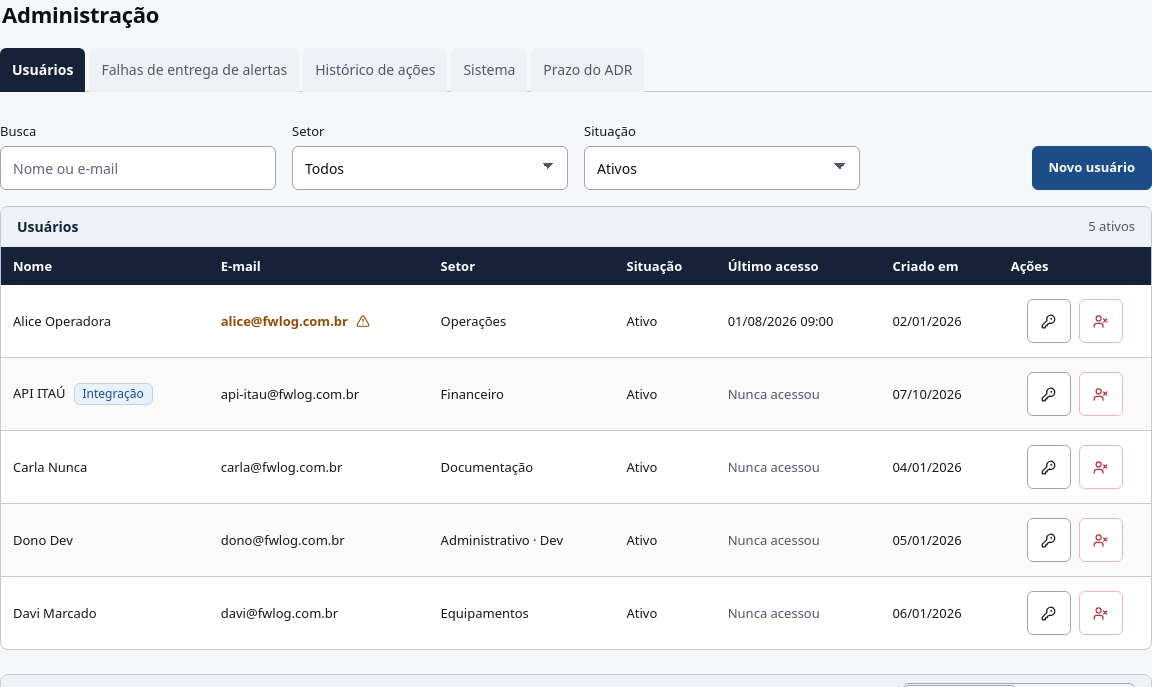
Test: exige o setor para criar um usuário
The width and height of the screenshot is (1152, 687).
Click the button "Novo usuário". click: (1092, 168)
box: [1032, 146, 1151, 190]
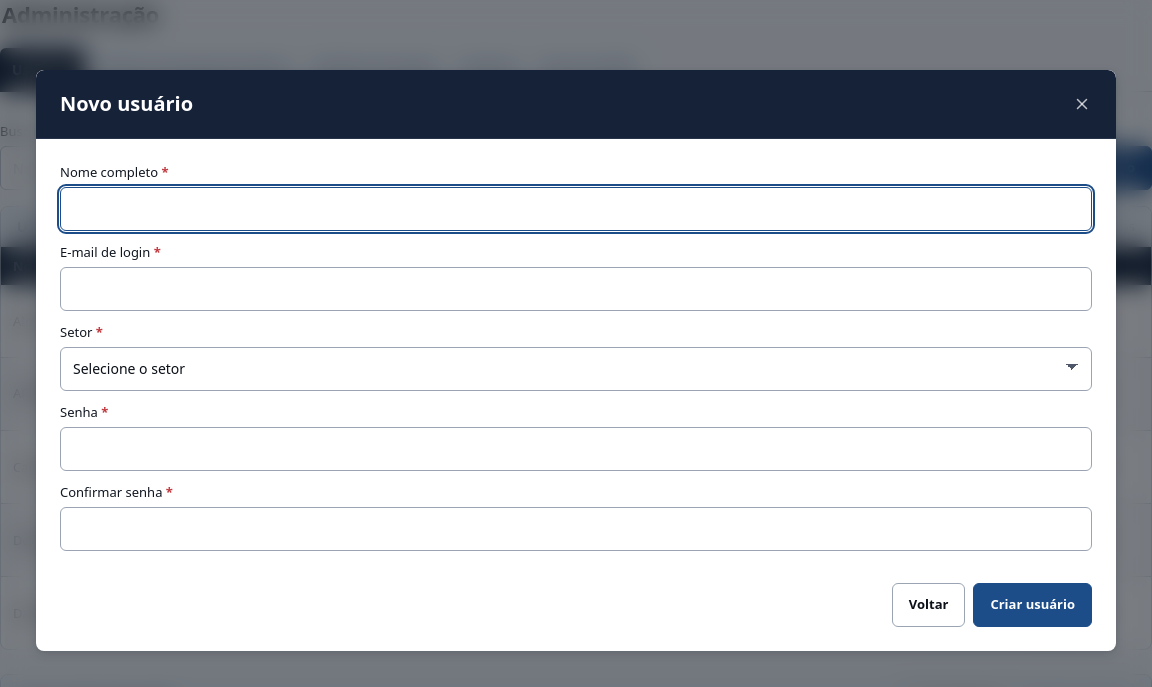
Type "Carla Nova" into the field labelled "Nome completo *". click: (576, 208)
box: [60, 186, 1092, 230]
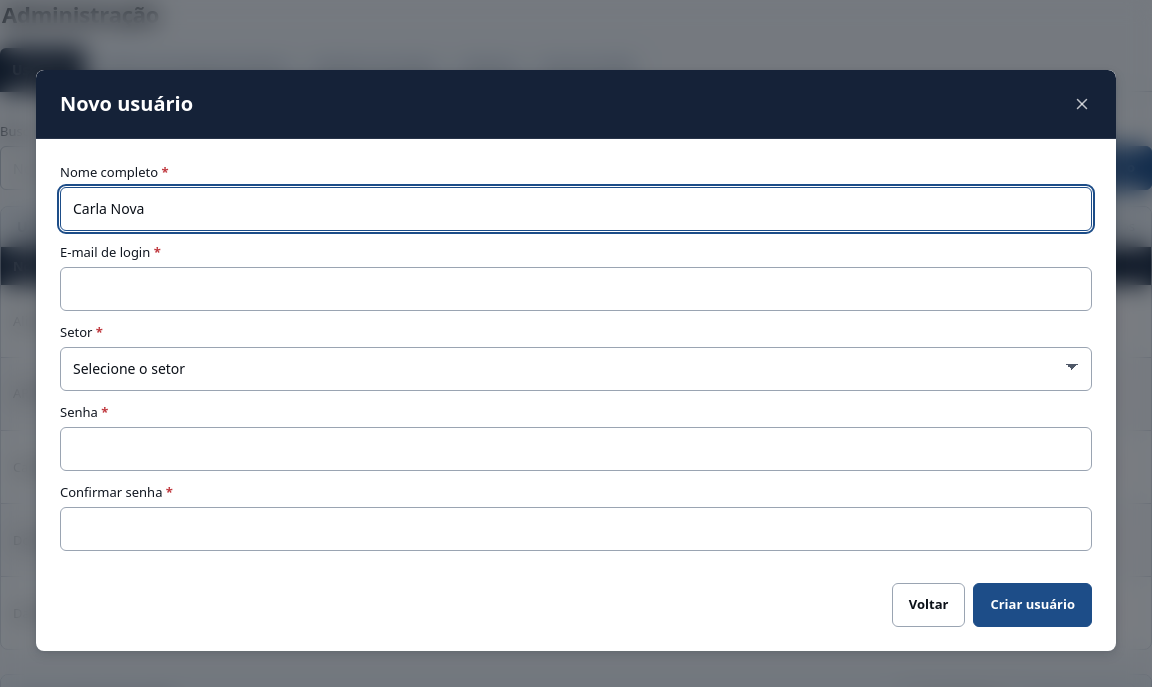
Type "carla@fwlog.com.br" into the field labelled "E-mail de login *". click: (576, 288)
box: [60, 266, 1092, 310]
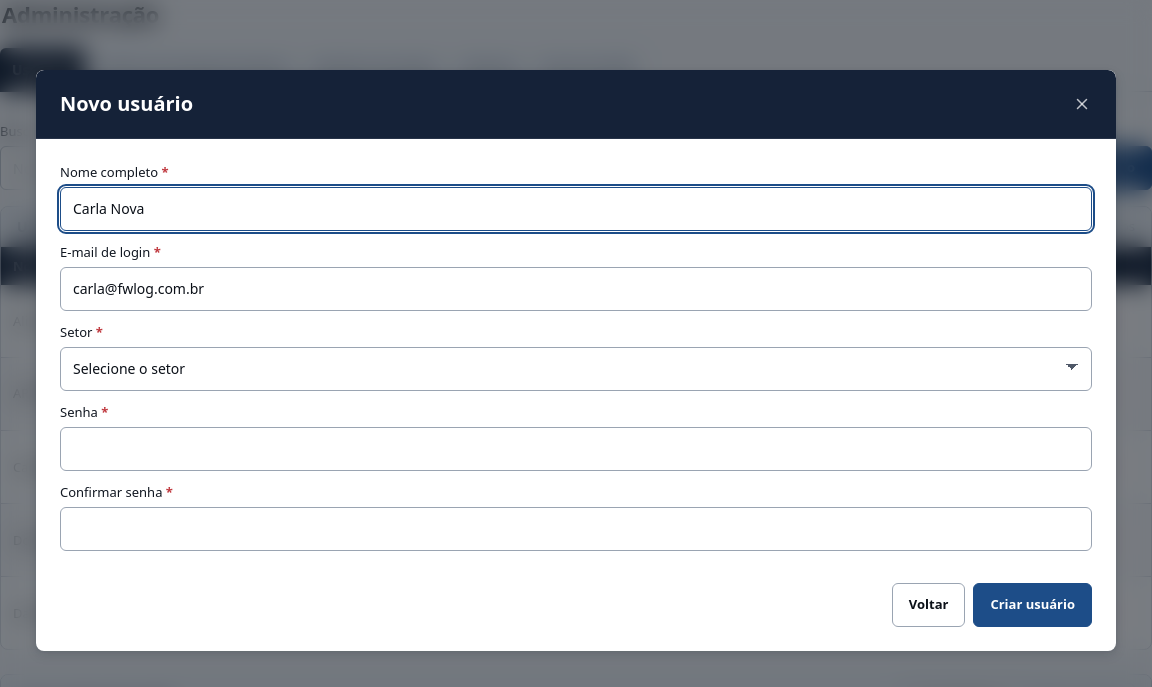
Type "Senha123" into the password field labelled "Senha *". click: (576, 448)
box: [60, 426, 1092, 470]
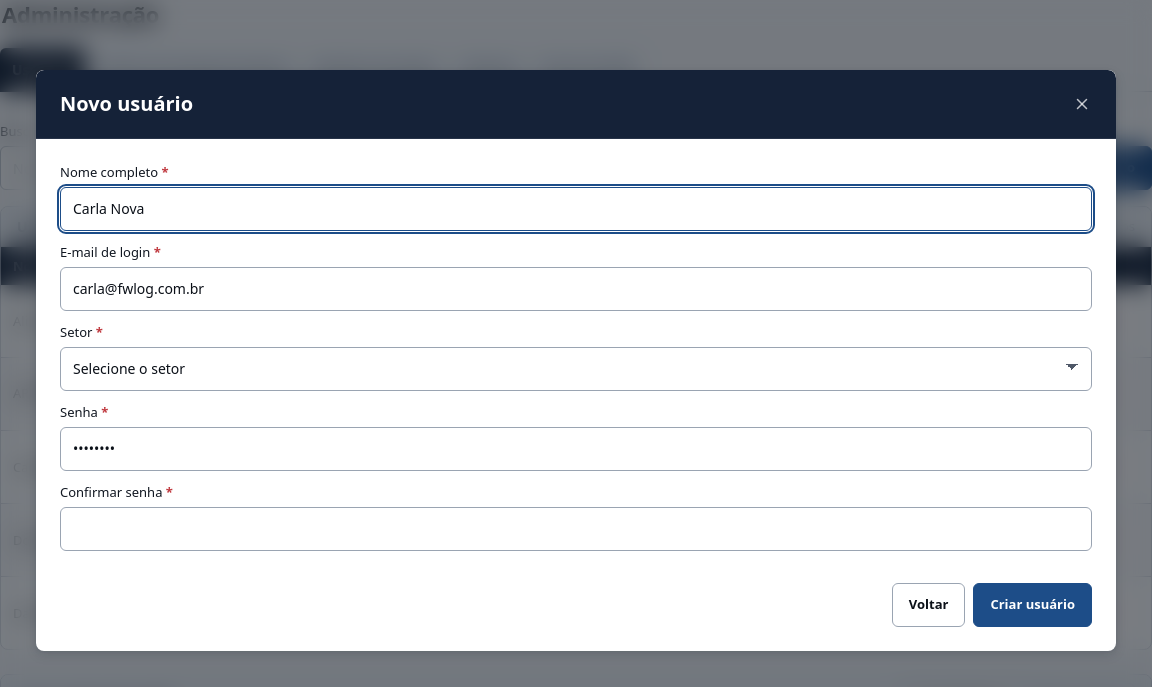
Type "Senha123" into the password field labelled "Confirmar senha *". click: (576, 528)
box: [60, 506, 1092, 550]
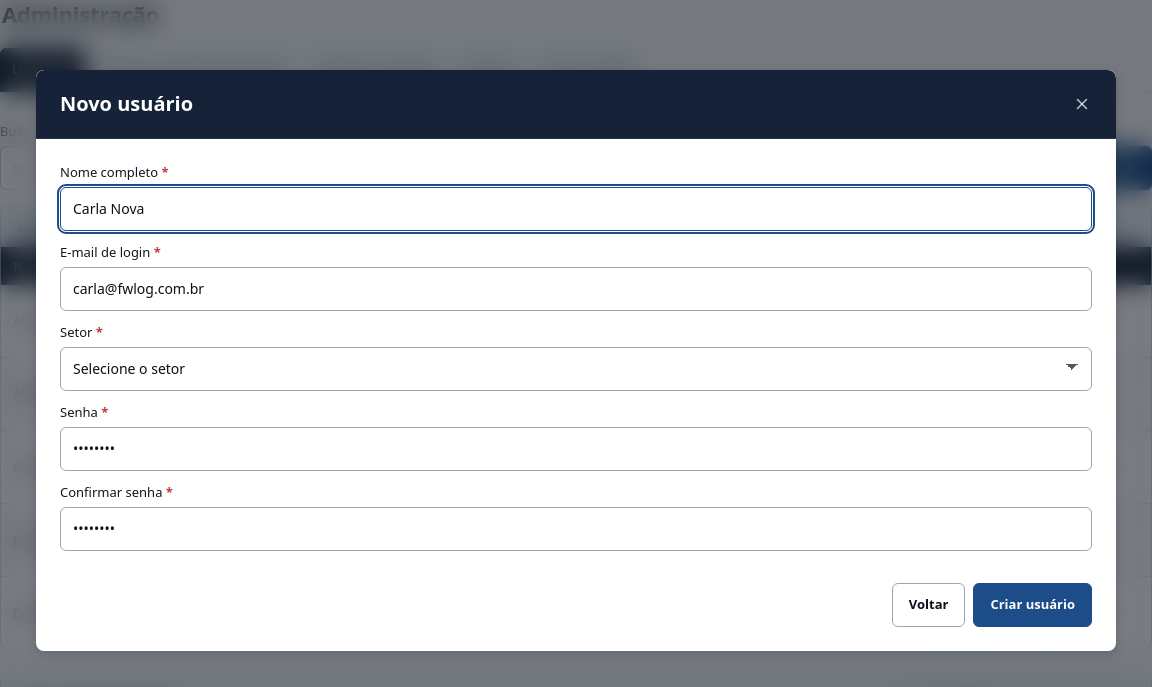
Click the button "Criar usuário". click: (1033, 604)
box: [973, 582, 1092, 626]
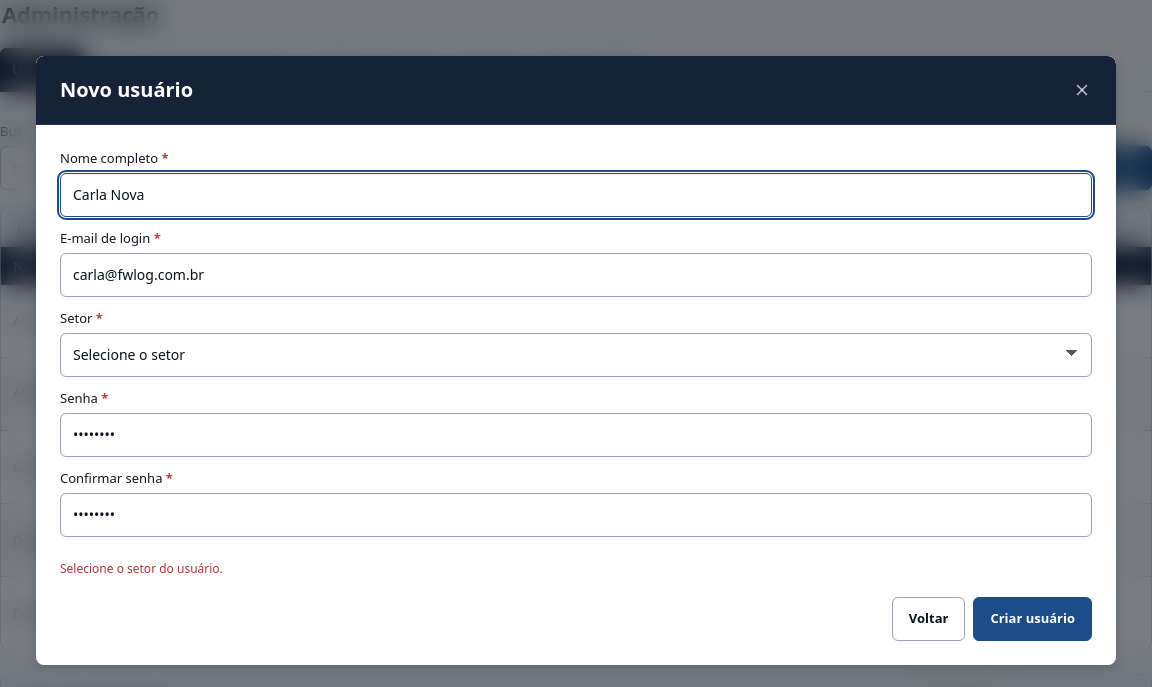
Check: the text "Selecione o setor do usuário." is shown, box [60, 560, 223, 576]
